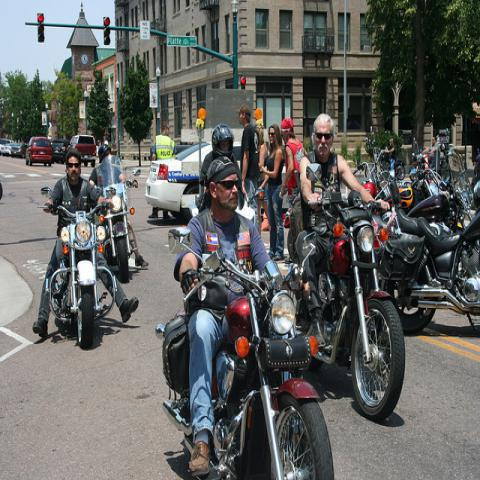car: (146, 140, 242, 221), (66, 135, 96, 169), (26, 137, 53, 167), (52, 140, 69, 165), (10, 142, 28, 160), (0, 139, 14, 156)
motorcycle: (168, 225, 334, 479), (285, 163, 405, 417), (377, 180, 479, 354), (35, 186, 117, 350), (407, 130, 474, 230), (97, 156, 141, 284), (408, 152, 442, 208), (354, 161, 400, 200), (372, 146, 406, 179), (470, 146, 480, 209)
